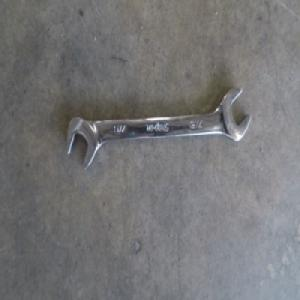Wrench: (70, 88, 244, 169)
